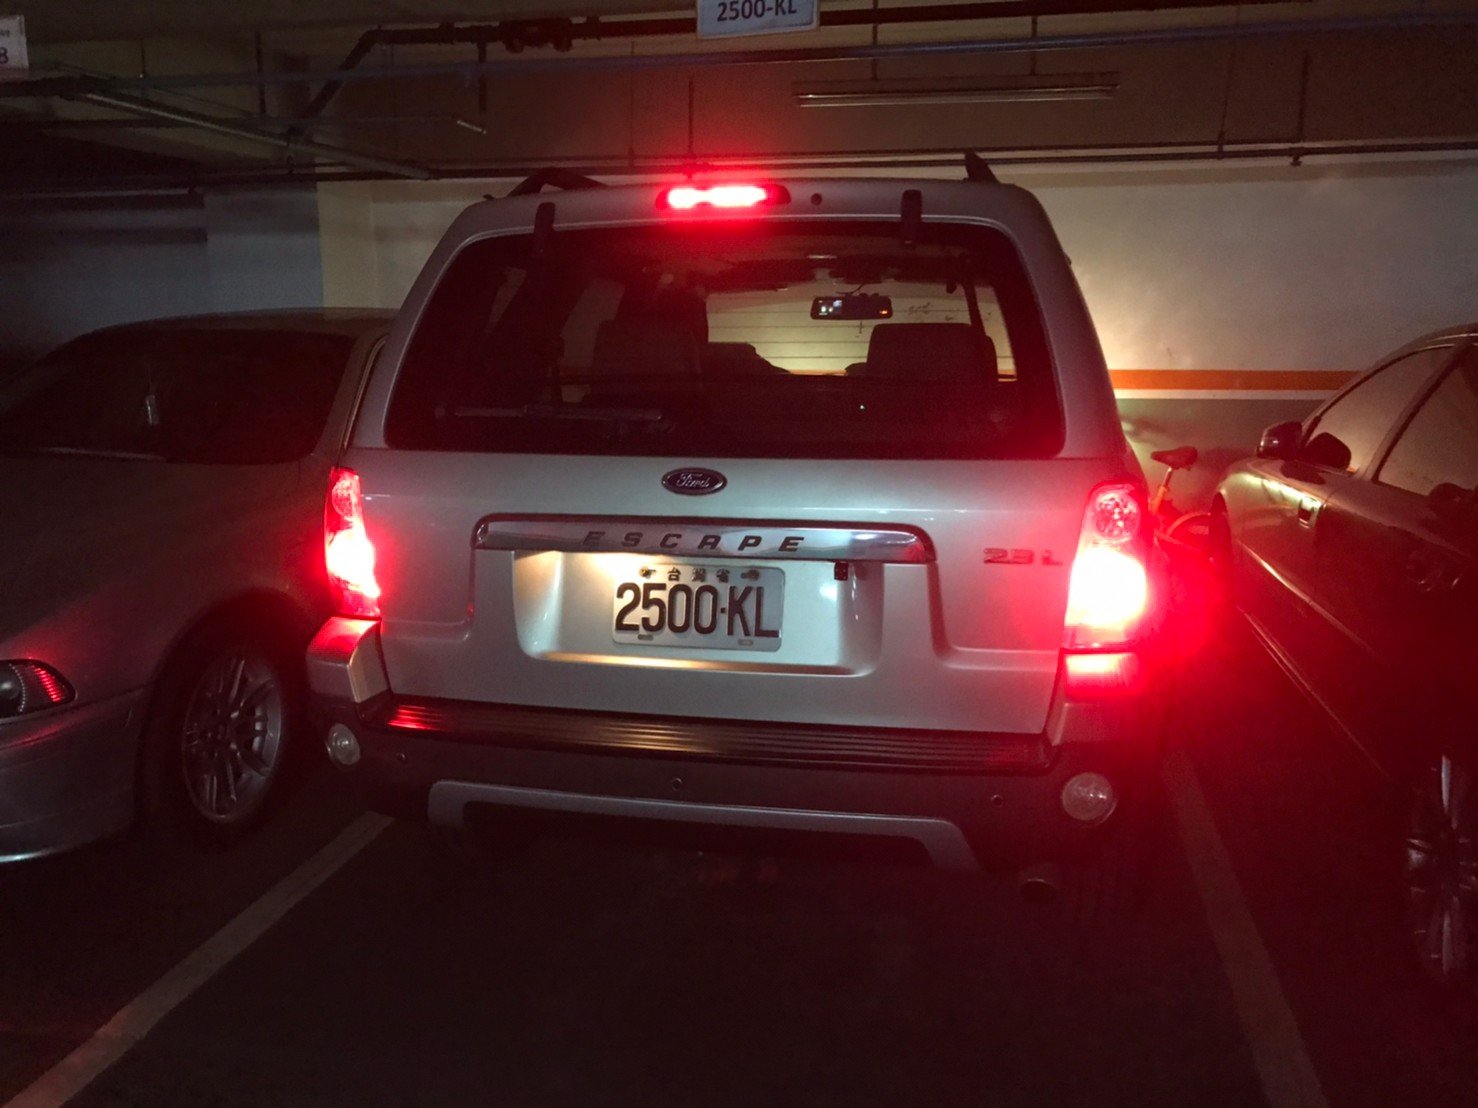LP: (609, 560, 786, 655)
